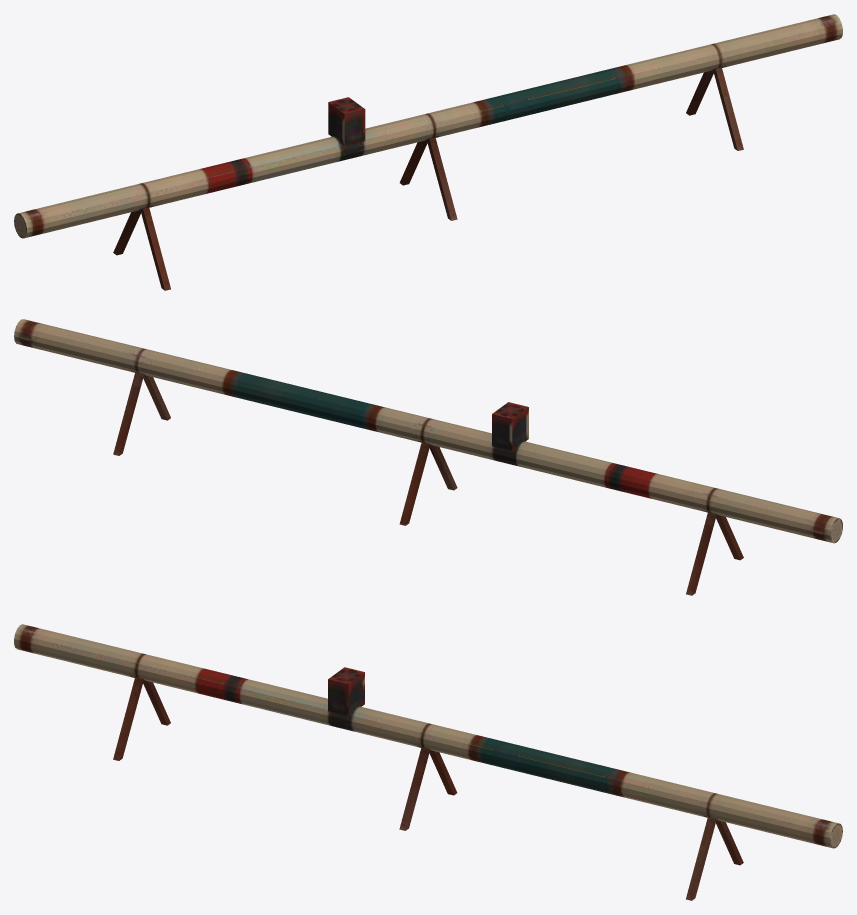
Rendered from irrigation_pipe.glb.
3 views of the same model, one above another, from view 1: azimuth 30°, elevation 25°; view 2: azimuth 150°, elevation 25°; view 3: azimuth 330°, elevation 25° (orthographic).
Parts seen in each view (by area): view 1: irrigation_pipe; view 2: irrigation_pipe; view 3: irrigation_pipe.
Boxes of the visible parts, <box> form: irrigation_pipe: <box>14,14,842,290</box>; irrigation_pipe: <box>14,319,842,595</box>; irrigation_pipe: <box>14,624,842,900</box>.
Size of the model in its own units: 3.99 by 0.54 by 0.44.
Materials: 1 (1 with a texture image).
